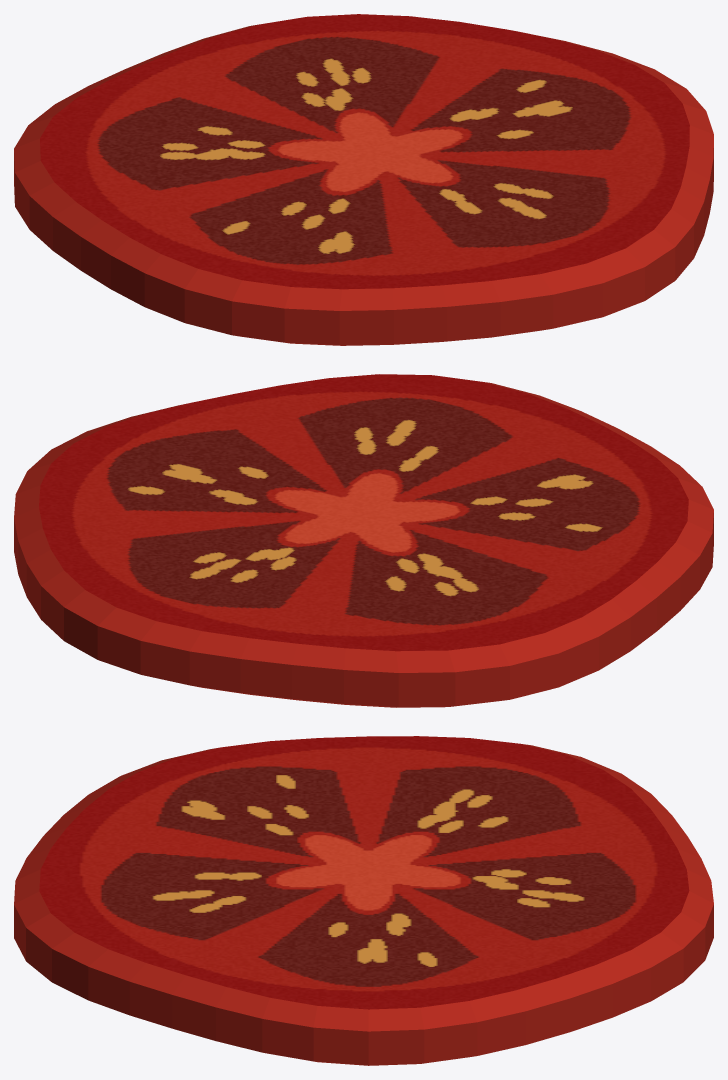
File: tomato_slice.glb
3 views of the same model, one above another, from view 1: azimuth 30°, elevation 25°; view 2: azimuth 150°, elevation 25°; view 3: azimuth 270°, elevation 25° (orthographic).
Parts seen in each view (by area): view 1: Fresh tomato slice; view 2: Fresh tomato slice; view 3: Fresh tomato slice.
Part boxes in pixels (x1=…): Fresh tomato slice: x1=14, y1=14, x2=713, y2=345; Fresh tomato slice: x1=14, y1=374, x2=713, y2=707; Fresh tomato slice: x1=14, y1=736, x2=713, y2=1065.
Bounding box in the file's own units: 0.1121 × 0.01 × 0.1127.
2 materials, 1 textured.
